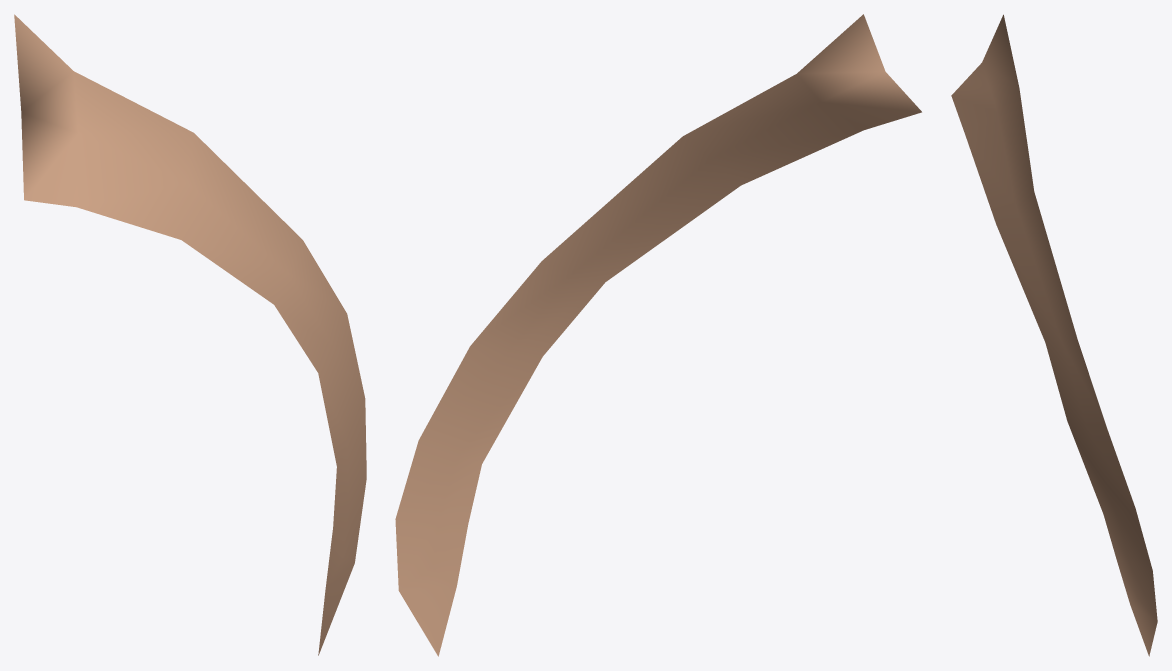
Rendered from nasolabial-sulcus-l.glb.
The picture shows the model from 3 angles, left to right: view 1: azimuth 30°, elevation 25°; view 2: azimuth 150°, elevation 25°; view 3: azimuth 270°, elevation 25°; orthographic projection. The views are drawn at different scales.
Parts seen in each view (by area): view 1: Nasolabial sulcus.l; view 2: Nasolabial sulcus.l; view 3: Nasolabial sulcus.l.
Boxes of the visible parts, x1,y1,x2,y2 form: Nasolabial sulcus.l: [14, 14, 366, 655]; Nasolabial sulcus.l: [395, 14, 921, 656]; Nasolabial sulcus.l: [951, 14, 1157, 656].
Size of the model in its own units: 0.0193 by 0.0304 by 0.011.
